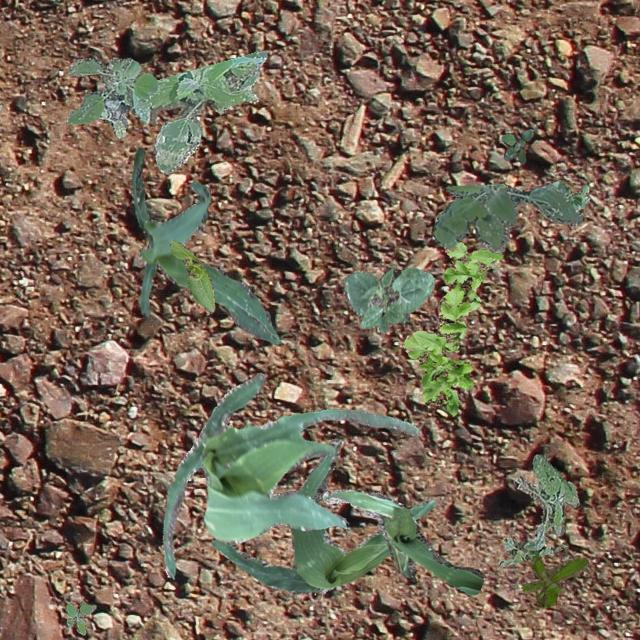crop: (162, 372, 418, 578), (210, 438, 434, 594), (130, 146, 278, 344), (320, 488, 482, 594), (342, 266, 434, 332), (168, 240, 214, 312), (542, 180, 588, 210)
weed: (96, 49, 266, 172), (402, 240, 502, 414), (432, 182, 580, 252), (498, 452, 578, 566), (66, 56, 156, 124), (522, 554, 588, 606), (500, 128, 532, 164), (64, 600, 96, 634)
